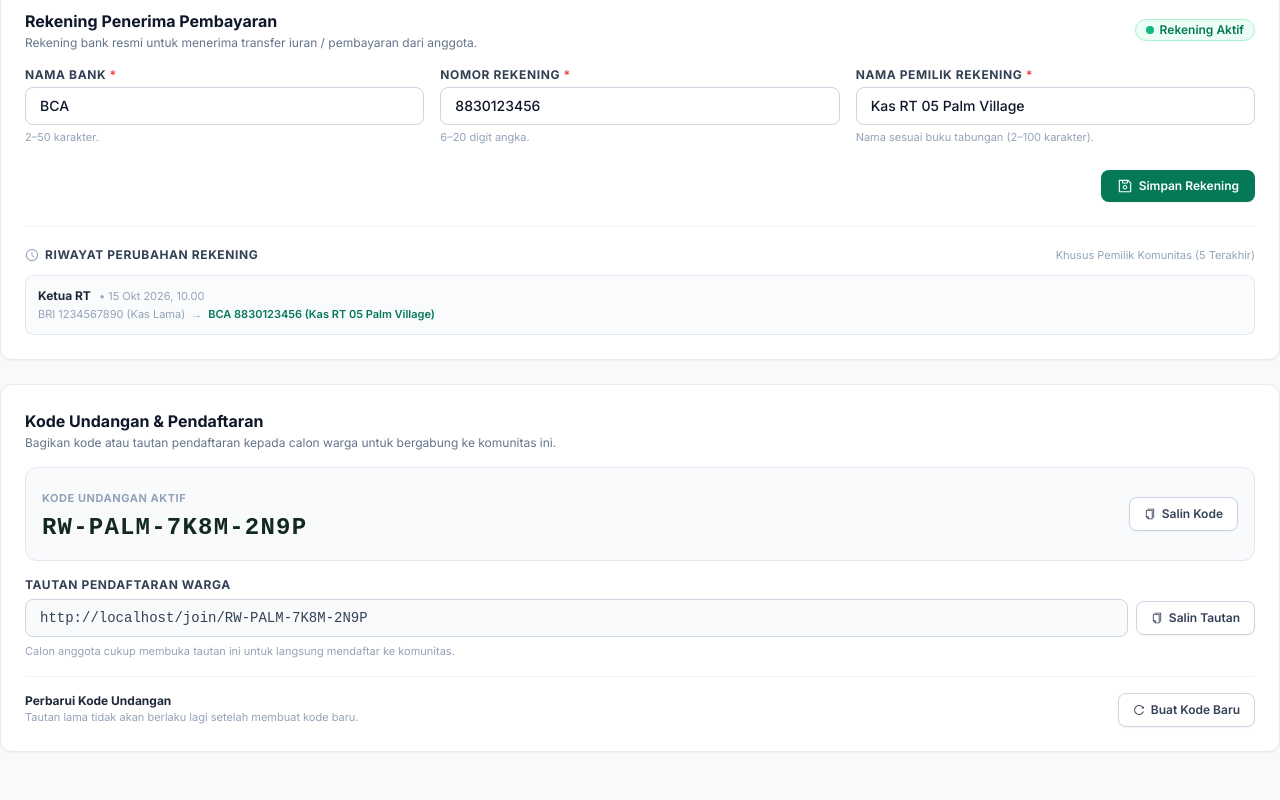
Scenario: TenantSettings (RTRW-2.4) › d. buat kode baru (confirm true) → saveInviteCodeWithRetry dipanggil, kode baru tampil
(page scrolled)
Check: the text "RW-PALM-7K8M-2N9P" is shown, box left=42, top=512, right=307, bottom=544
Step 1. Click the button "Buat Kode Baru" → (1186, 710), box left=1118, top=692, right=1255, bottom=726
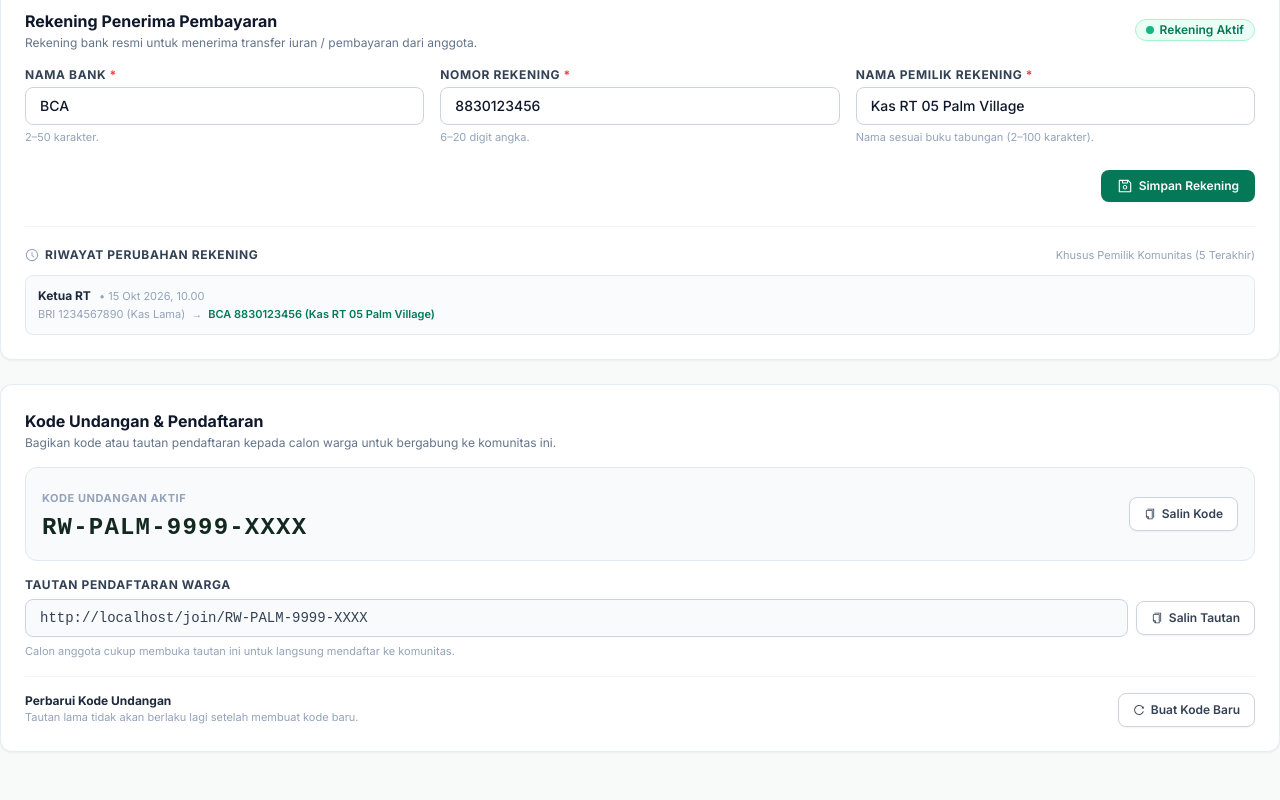
Check: the text "RW-PALM-9999-XXXX" is shown, box left=42, top=512, right=307, bottom=544
